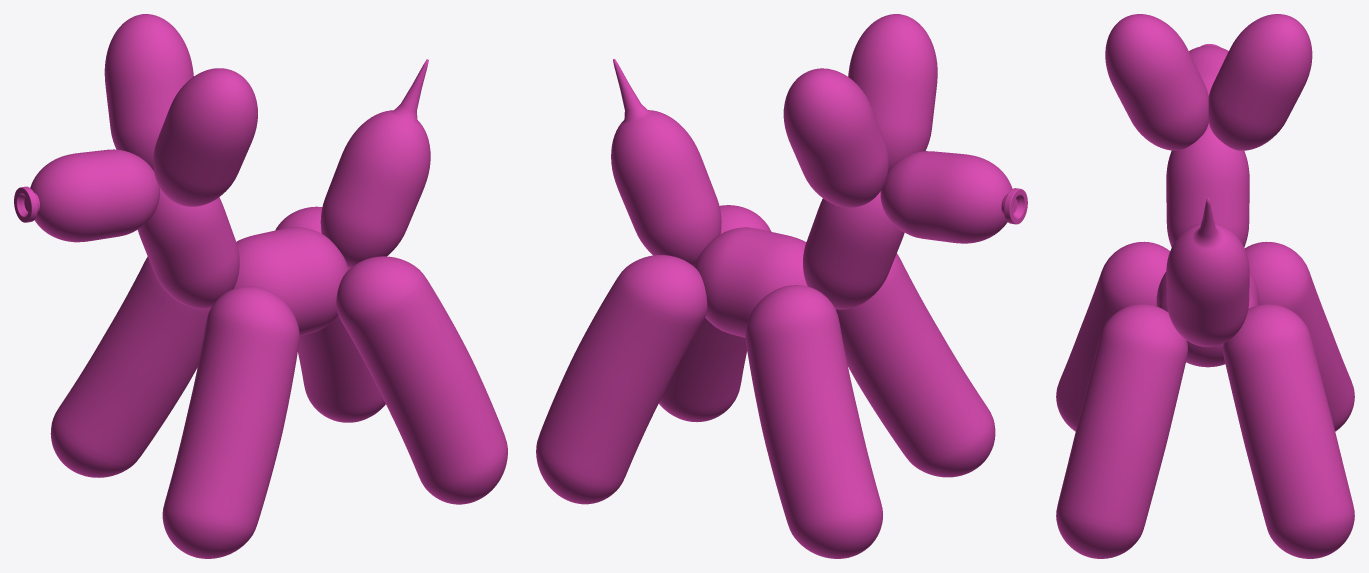
File: Balloon Dog.fbx
3 views of the same model, side by side, from view 1: azimuth 30°, elevation 25°; view 2: azimuth 150°, elevation 25°; view 3: azimuth 270°, elevation 25° (orthographic). The views are drawn at different scales.
Visible parts, largest first — view 1: node_id7, node_id6, node_id8, node_id14, node_id10, node_id12, node_id11, node_id9, node_id5, node_id4, node_id13; view 2: node_id8, node_id4, node_id7, node_id14, node_id11, node_id12, node_id10, node_id9, node_id5, node_id6, node_id13; view 3: node_id6, node_id4, node_id11, node_id10, node_id14, node_id9, node_id7, node_id8, node_id5, node_id12.
Boxes of the visible parts, x1,y1,x2,y2 form: node_id7: (162, 286, 299, 558); node_id6: (336, 256, 507, 504); node_id8: (50, 256, 210, 477); node_id14: (320, 59, 430, 267); node_id10: (153, 68, 257, 206); node_id12: (30, 149, 159, 242); node_id11: (104, 14, 193, 170); node_id9: (138, 187, 239, 308); node_id5: (233, 227, 348, 336); node_id4: (275, 206, 385, 422); node_id13: (14, 186, 39, 222); node_id8: (745, 285, 882, 558); node_id4: (536, 255, 707, 504); node_id7: (836, 253, 995, 477); node_id14: (611, 59, 721, 266); node_id11: (783, 68, 888, 207); node_id12: (880, 151, 1012, 243); node_id10: (848, 14, 937, 170); node_id9: (803, 191, 904, 309); node_id5: (694, 227, 807, 337); node_id6: (659, 205, 771, 422); node_id13: (1001, 188, 1027, 224); node_id6: (1056, 304, 1187, 558); node_id4: (1223, 304, 1354, 558); node_id11: (1208, 14, 1312, 150); node_id10: (1105, 14, 1208, 150); node_id14: (1166, 198, 1249, 347); node_id9: (1166, 123, 1249, 247); node_id7: (1056, 241, 1169, 431); node_id8: (1244, 241, 1354, 431); node_id5: (1156, 272, 1259, 367); node_id12: (1189, 45, 1228, 95).
Bounding box in the file's own units: 0.4464 × 0.4711 × 0.2909.
